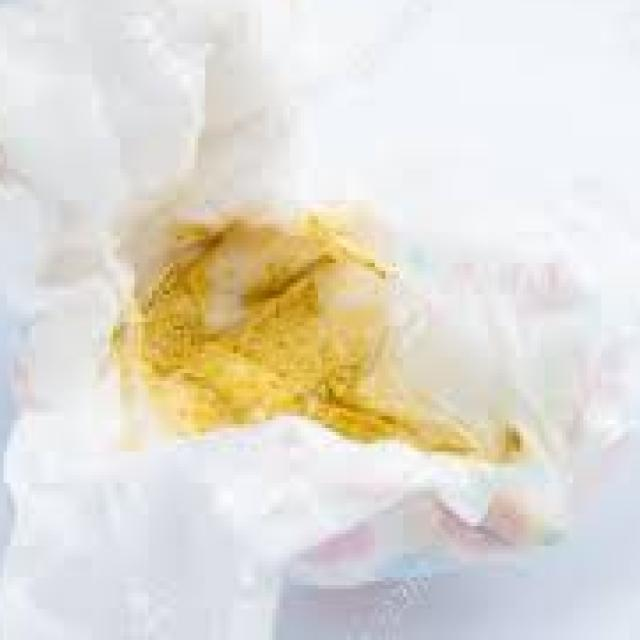organic: (12, 21, 610, 616)
